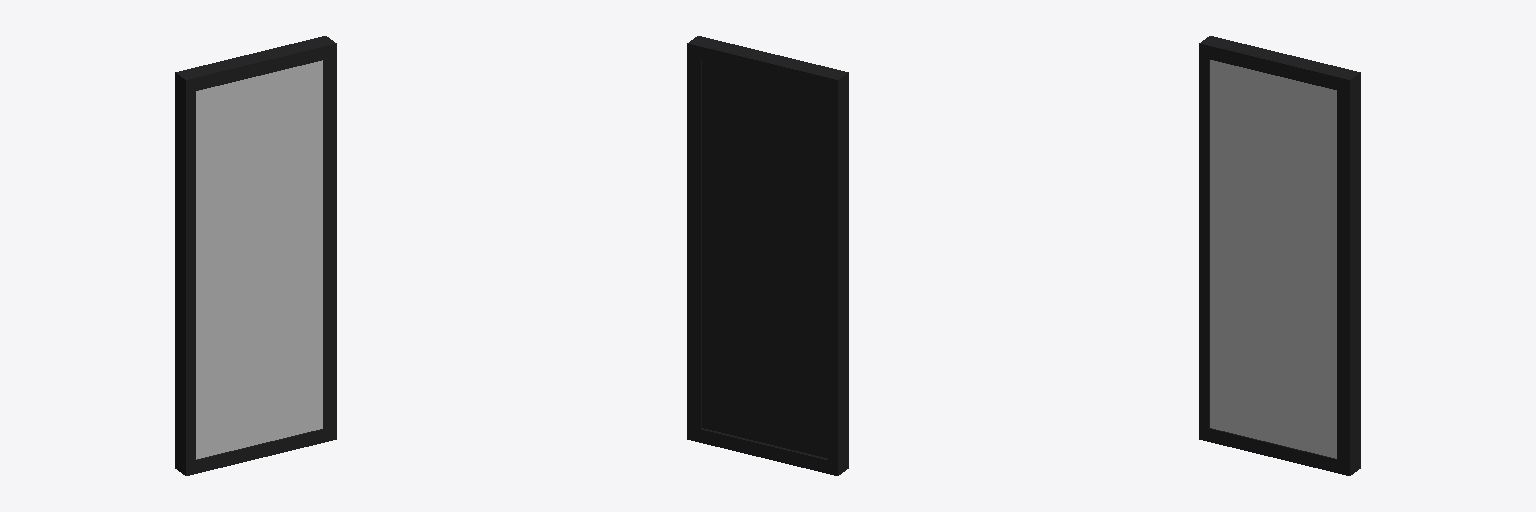
Rendered from Sign_4.obj.
3 views of the same model, side by side, from view 1: azimuth 30°, elevation 25°; view 2: azimuth 150°, elevation 25°; view 3: azimuth 330°, elevation 25° (orthographic).
Visible parts, largest first — view 1: Sign_4_Cube.024; view 2: Sign_4_Cube.024; view 3: Sign_4_Cube.024.
Boxes of the visible parts, x1=… form: Sign_4_Cube.024: x1=175, y1=36, x2=336, y2=475; Sign_4_Cube.024: x1=687, y1=36, x2=848, y2=475; Sign_4_Cube.024: x1=1199, y1=36, x2=1360, y2=475.
Bounding box in the file's own units: 0.5056 × 1.27 × 0.0618.